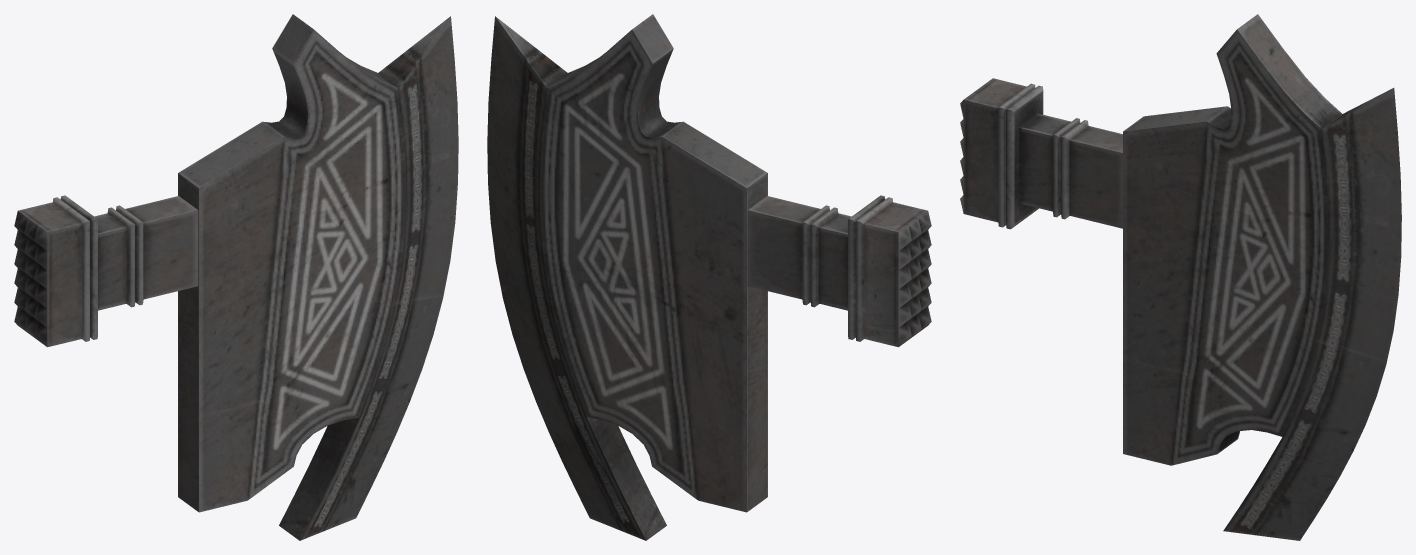
The model's file is sm_dwarf_erebor_axe_blade_2h_c.fbx.
3 renders of one model, left to right at view 1: azimuth 30°, elevation 25°; view 2: azimuth 150°, elevation 25°; view 3: azimuth 330°, elevation 25°, orthographic.
Visible parts, largest first — view 1: sm_dwarf_erebor_axe_blade_2h_c; view 2: sm_dwarf_erebor_axe_blade_2h_c; view 3: sm_dwarf_erebor_axe_blade_2h_c.
Part boxes in pixels (x1=…): sm_dwarf_erebor_axe_blade_2h_c: x1=14, y1=14, x2=458, y2=540; sm_dwarf_erebor_axe_blade_2h_c: x1=487, y1=14, x2=931, y2=540; sm_dwarf_erebor_axe_blade_2h_c: x1=960, y1=14, x2=1401, y2=540.
Size of the model in its own units: 0.3589 by 0.0463 by 0.4022.
1 material, 1 textured.
